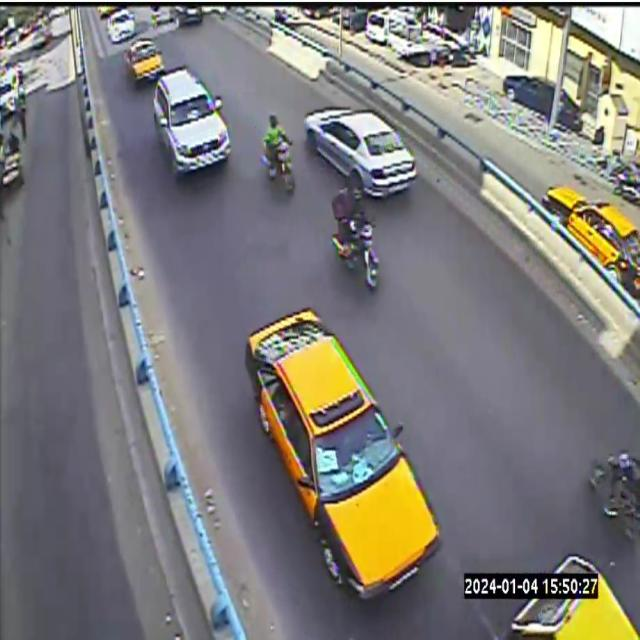car: (246, 309, 439, 598), (543, 186, 639, 299), (511, 555, 639, 639), (305, 107, 415, 197), (154, 67, 230, 174), (125, 39, 163, 82), (108, 8, 136, 43)
